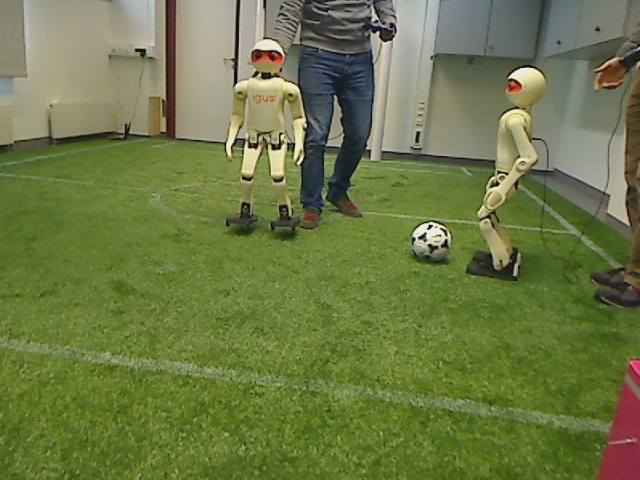ball: (407, 219, 458, 267)
robot: (466, 60, 547, 280), (219, 37, 309, 233)
